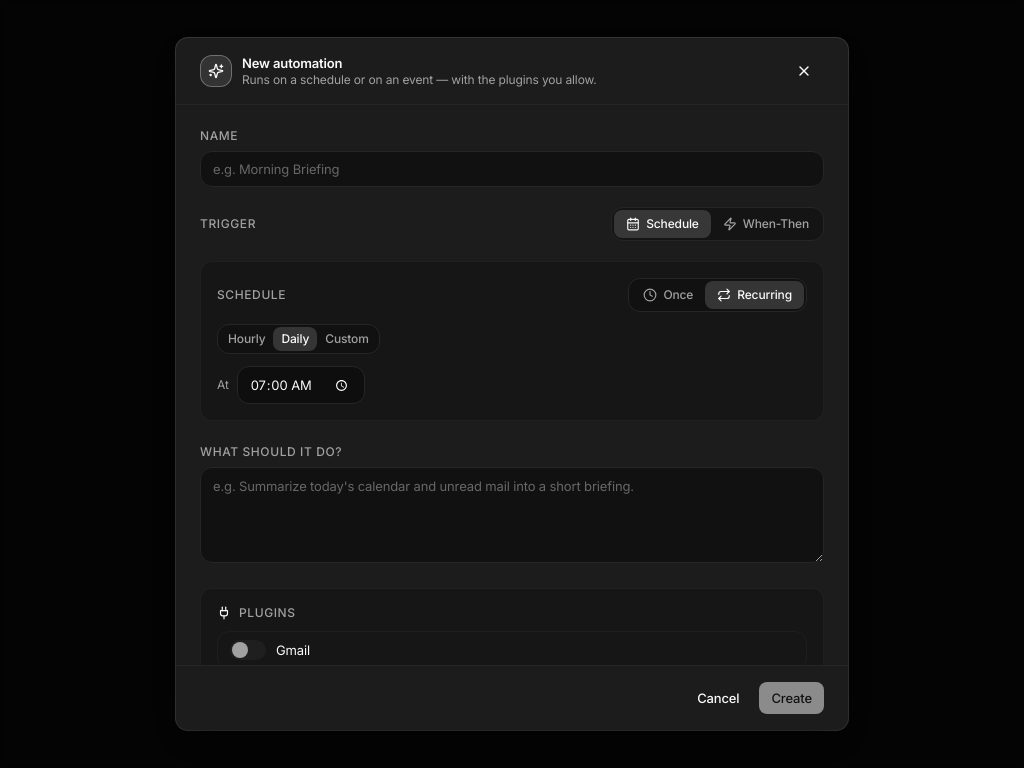
TaskCreateDialog › toggling a plugin reveals its read/write/full scope picker
Expected: the text "Gmail" is shown, [276,641,310,659]
Click the switch at point(248, 650), box [230,640,266,660]
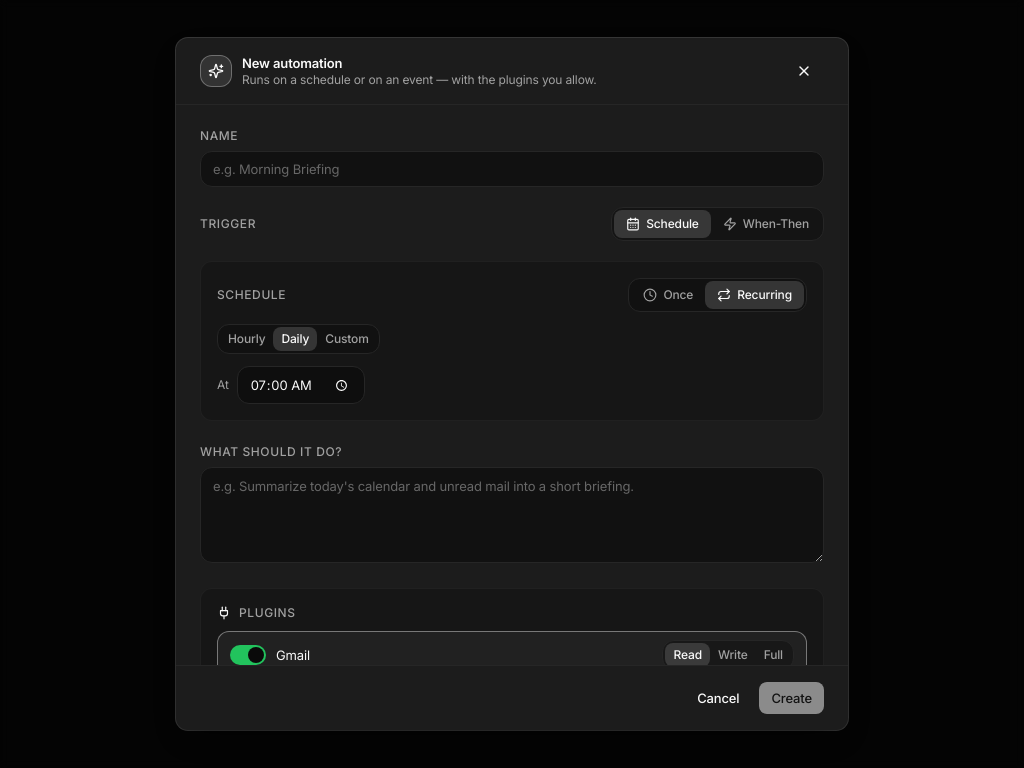
Expected: the button "Read" is shown, [666,643,710,665]
Expected: the button "Write" is shown, [710,643,756,665]
Expected: the button "Full" is shown, [756,643,791,665]
